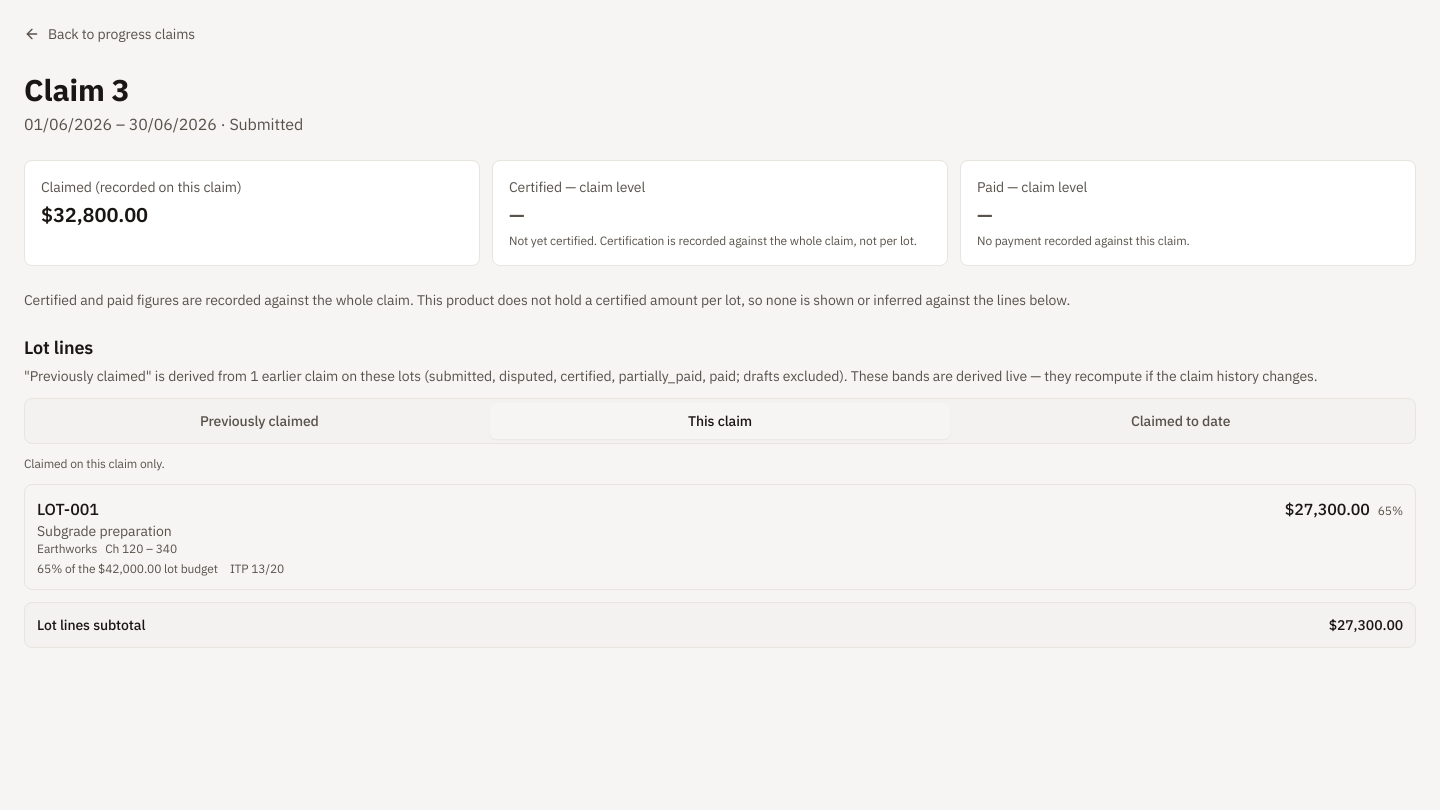
it: ClaimDetailPage › shows one band at a time behind a segmented control on a phone
Check: the element named "Claim band" is shown, box [24,398,1416,444]
Check: the text "$27,300.00" in the row of "LOT-001" is shown, box [1285,499,1370,519]
Click the tab "Previously claimed" at {"x": 259, "y": 421}, box [29,403,490,439]
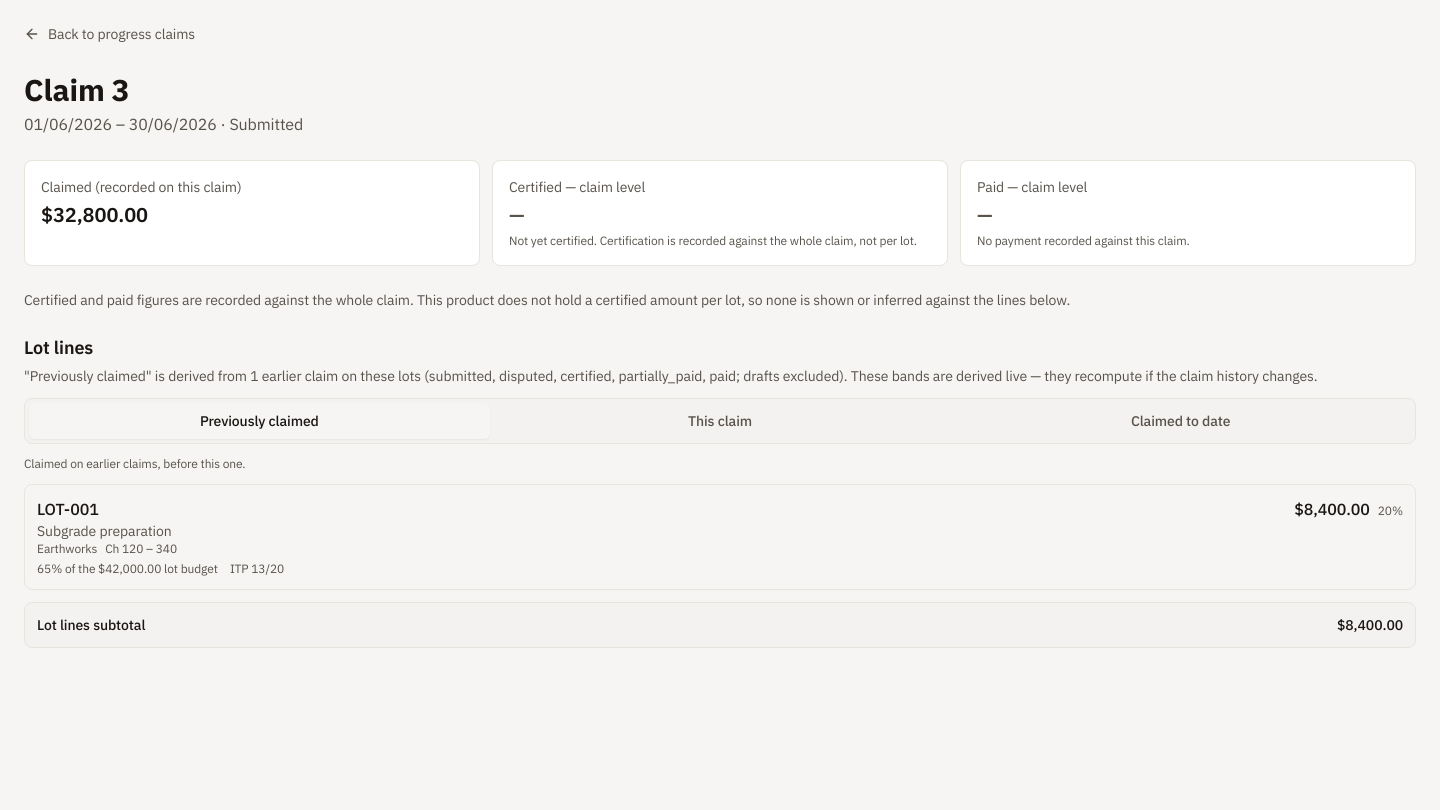
Check: the text "$8,400.00" in the row of "LOT-001" is shown, box [1294,499,1370,519]
Check: the text "$27,300.00" is gone
